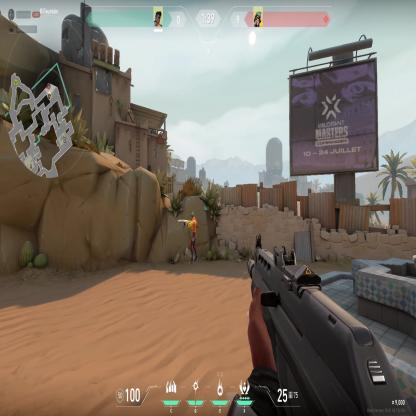enemy: (182, 210, 198, 266)
